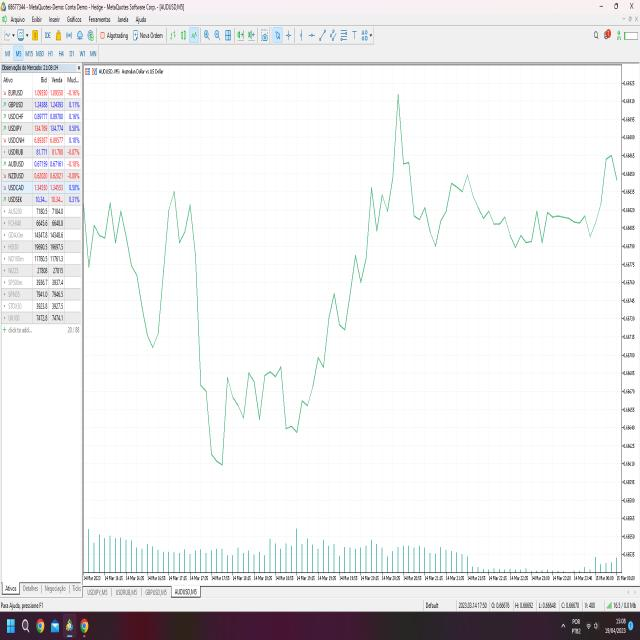topo_duplo: (154, 133, 207, 292)
